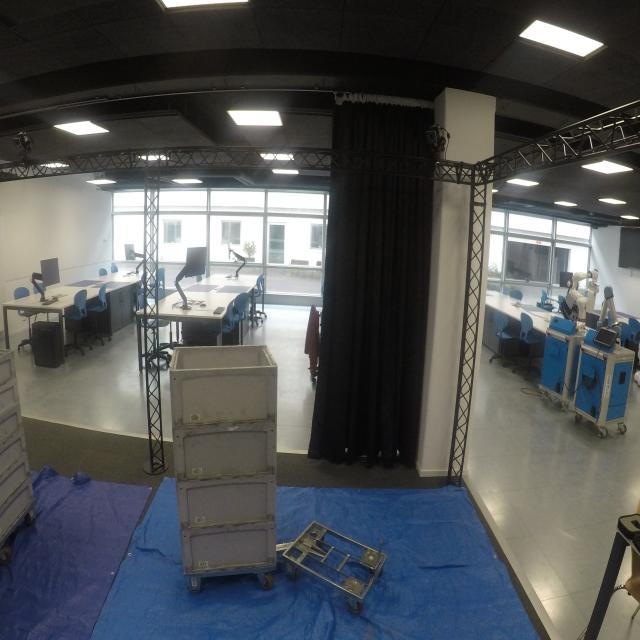Box4G: (166, 338, 282, 432), (170, 422, 284, 484), (173, 476, 282, 534), (180, 527, 282, 572)
